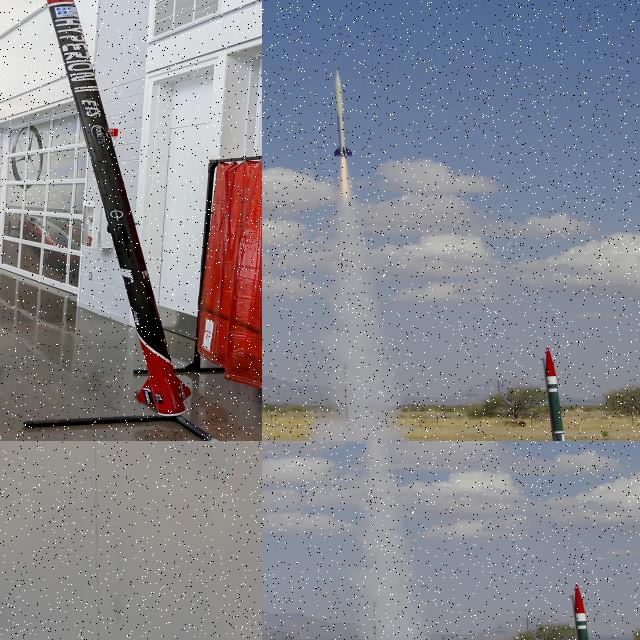Rocket: (46, 0, 192, 416), (545, 346, 575, 441), (574, 583, 604, 640), (333, 69, 352, 156)
